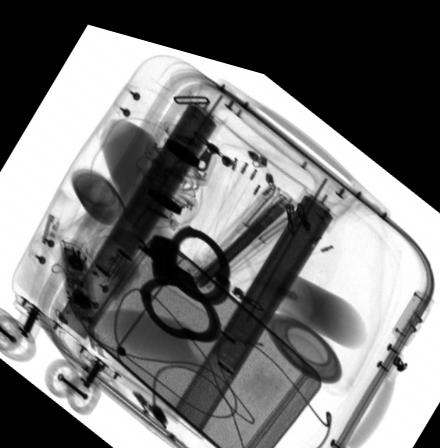HandCuffs: (139, 211, 230, 331)
